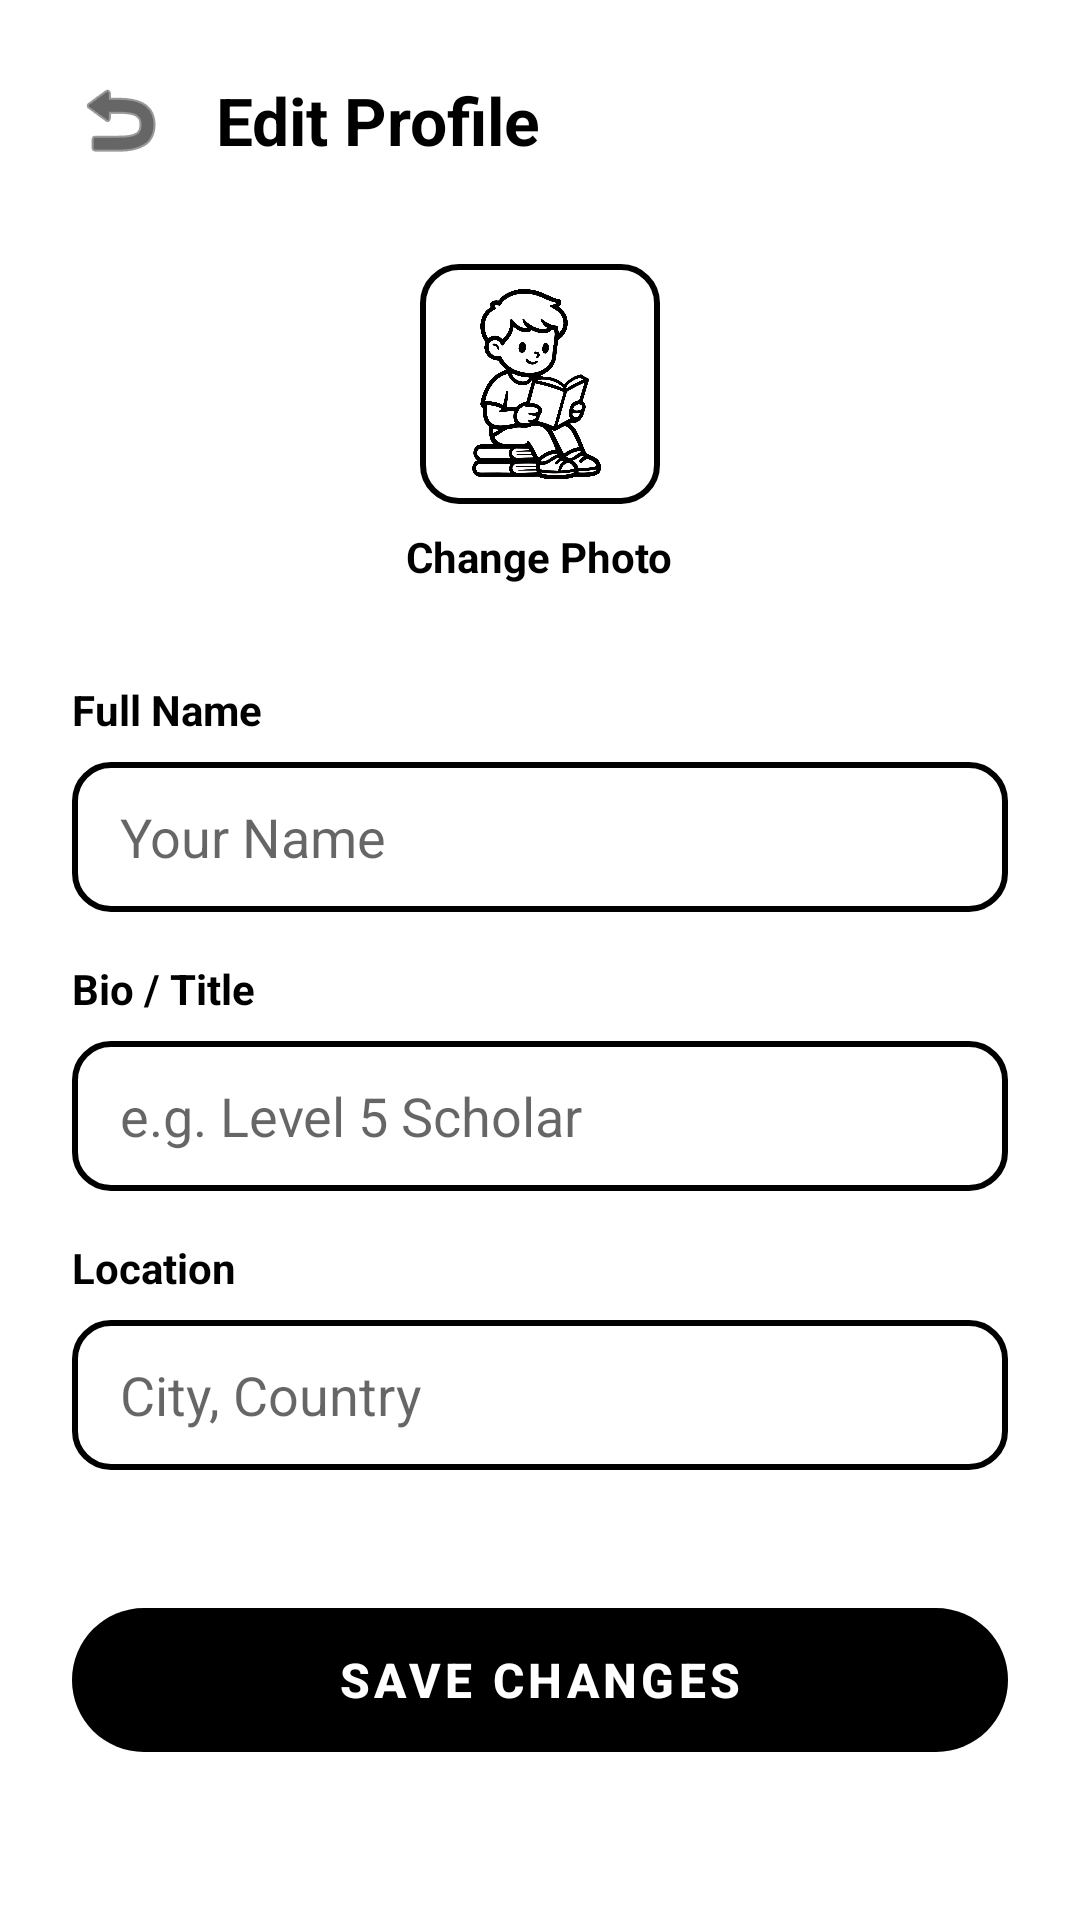

Screen size 1080 x 1920. Icon name, then its box in pixels as {"x1": x1, "y1": y1, "x2": x2, "y2": y2}:
hero student: {"x1": 420, "y1": 264, "x2": 660, "y2": 504}
revert: {"x1": 87, "y1": 89, "x2": 156, "y2": 152}
